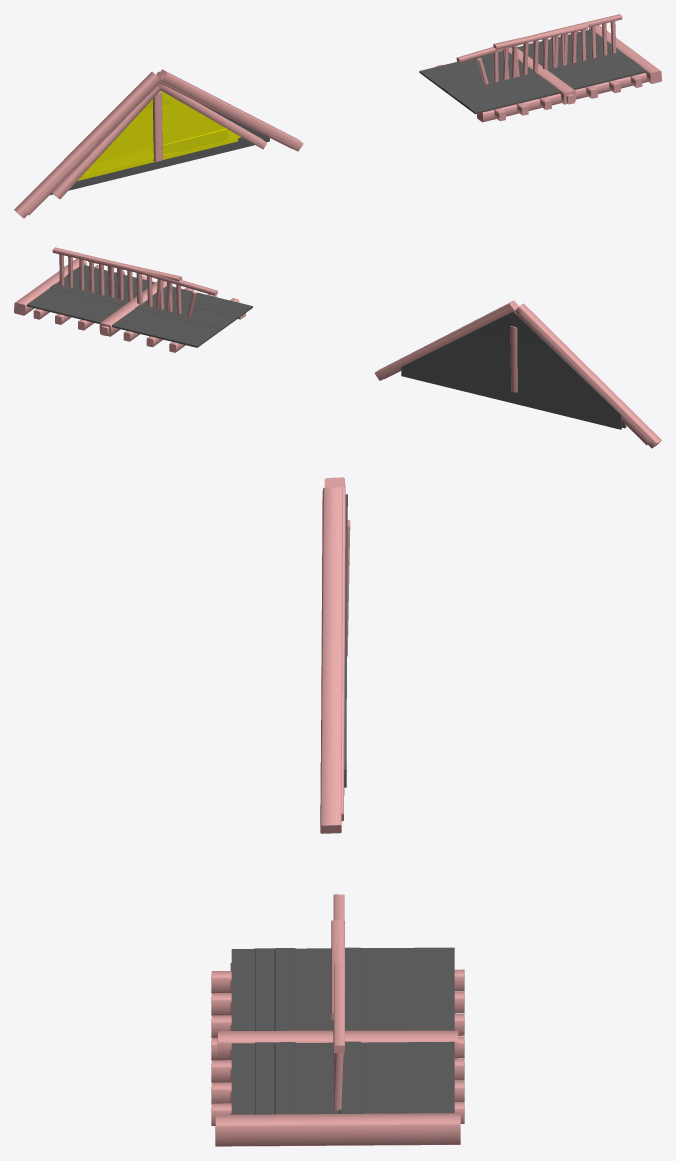
The model's file is testKit.fbx.
3 views of the same model, one above another, from view 1: azimuth 30°, elevation 25°; view 2: azimuth 150°, elevation 25°; view 3: azimuth 270°, elevation 25° (orthographic). The views are drawn at different scales.
Visible parts, largest first — view 1: balconyFloor, roofCap1, roofCap4, roofCap5, balconyRail3, roofCap2, balconyRail1, roofCap3, balconyBeam; view 2: roofCap4, balconyFloor, balconyRail3, roofCap5, balconyRail2, balconyBeam, roofCap2, balconyRail1; view 3: balconyFloor, roofCap4, balconyBeam, balconyRail3, roofCap5.
Part boxes in pixels (box(x1,y1,x2,y2)): balconyFloor: box(419, 25, 661, 122); roofCap1: box(59, 83, 265, 199); roofCap4: box(14, 69, 303, 218); roofCap5: box(25, 71, 292, 215); balconyRail3: box(456, 14, 622, 84); roofCap2: box(52, 85, 266, 198); balconyRail1: box(494, 25, 587, 79); roofCap3: box(82, 99, 241, 175); balconyBeam: box(508, 47, 575, 104); roofCap4: box(374, 300, 661, 448); balconyFloor: box(14, 258, 252, 352); balconyRail3: box(52, 247, 217, 316); roofCap5: box(379, 303, 650, 445); balconyRail2: box(88, 261, 181, 311); balconyBeam: box(99, 281, 166, 336); roofCap2: box(510, 326, 517, 392); balconyRail1: box(102, 263, 182, 311); balconyFloor: box(211, 947, 464, 1146); roofCap4: box(320, 477, 347, 833); balconyBeam: box(217, 1030, 458, 1060); balconyRail3: box(333, 894, 344, 1110); roofCap5: box(341, 483, 345, 821).
Bounding box in the file's own units: 1.61 × 0.278 × 0.2877.
